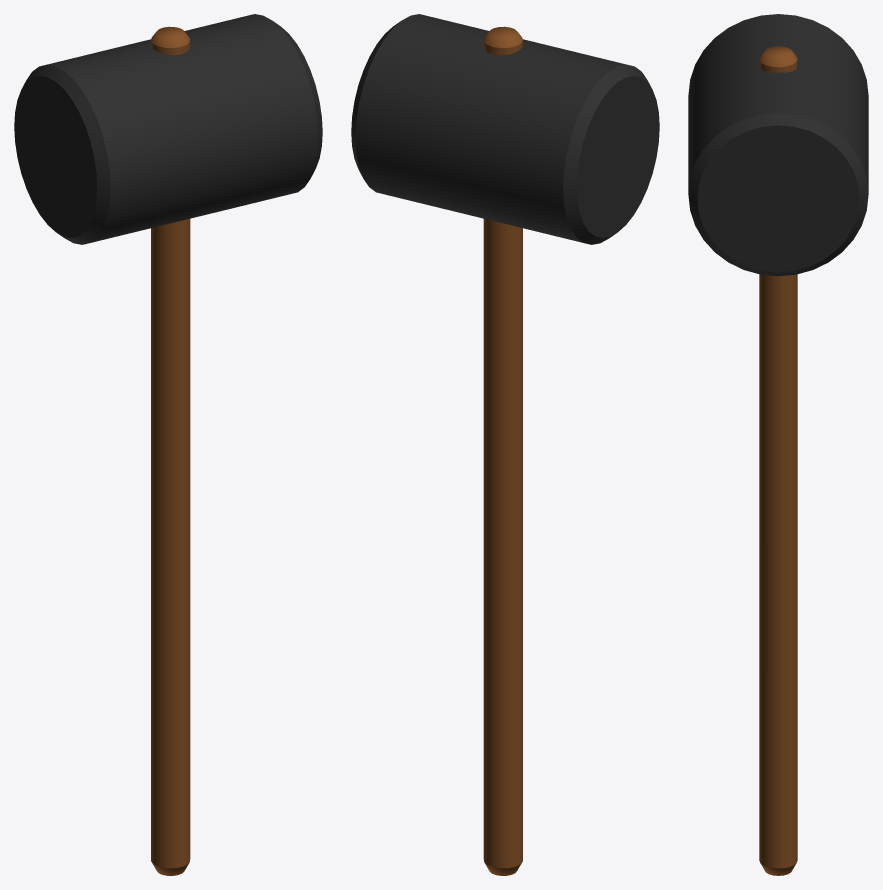
File: mallet.fbx
The picture shows the model from 3 angles, left to right: view 1: azimuth 30°, elevation 25°; view 2: azimuth 150°, elevation 25°; view 3: azimuth 270°, elevation 25°; orthographic projection. The views are drawn at different scales.
Visible parts, largest first — view 1: Mallet; view 2: Mallet; view 3: Mallet.
Boxes of the visible parts, x1,y1,x2,y2 form: Mallet: (14,14,322,875); Mallet: (351,14,659,875); Mallet: (688,14,868,875).
Size of the model in its own units: 25.94 by 18.38 by 92.02.
